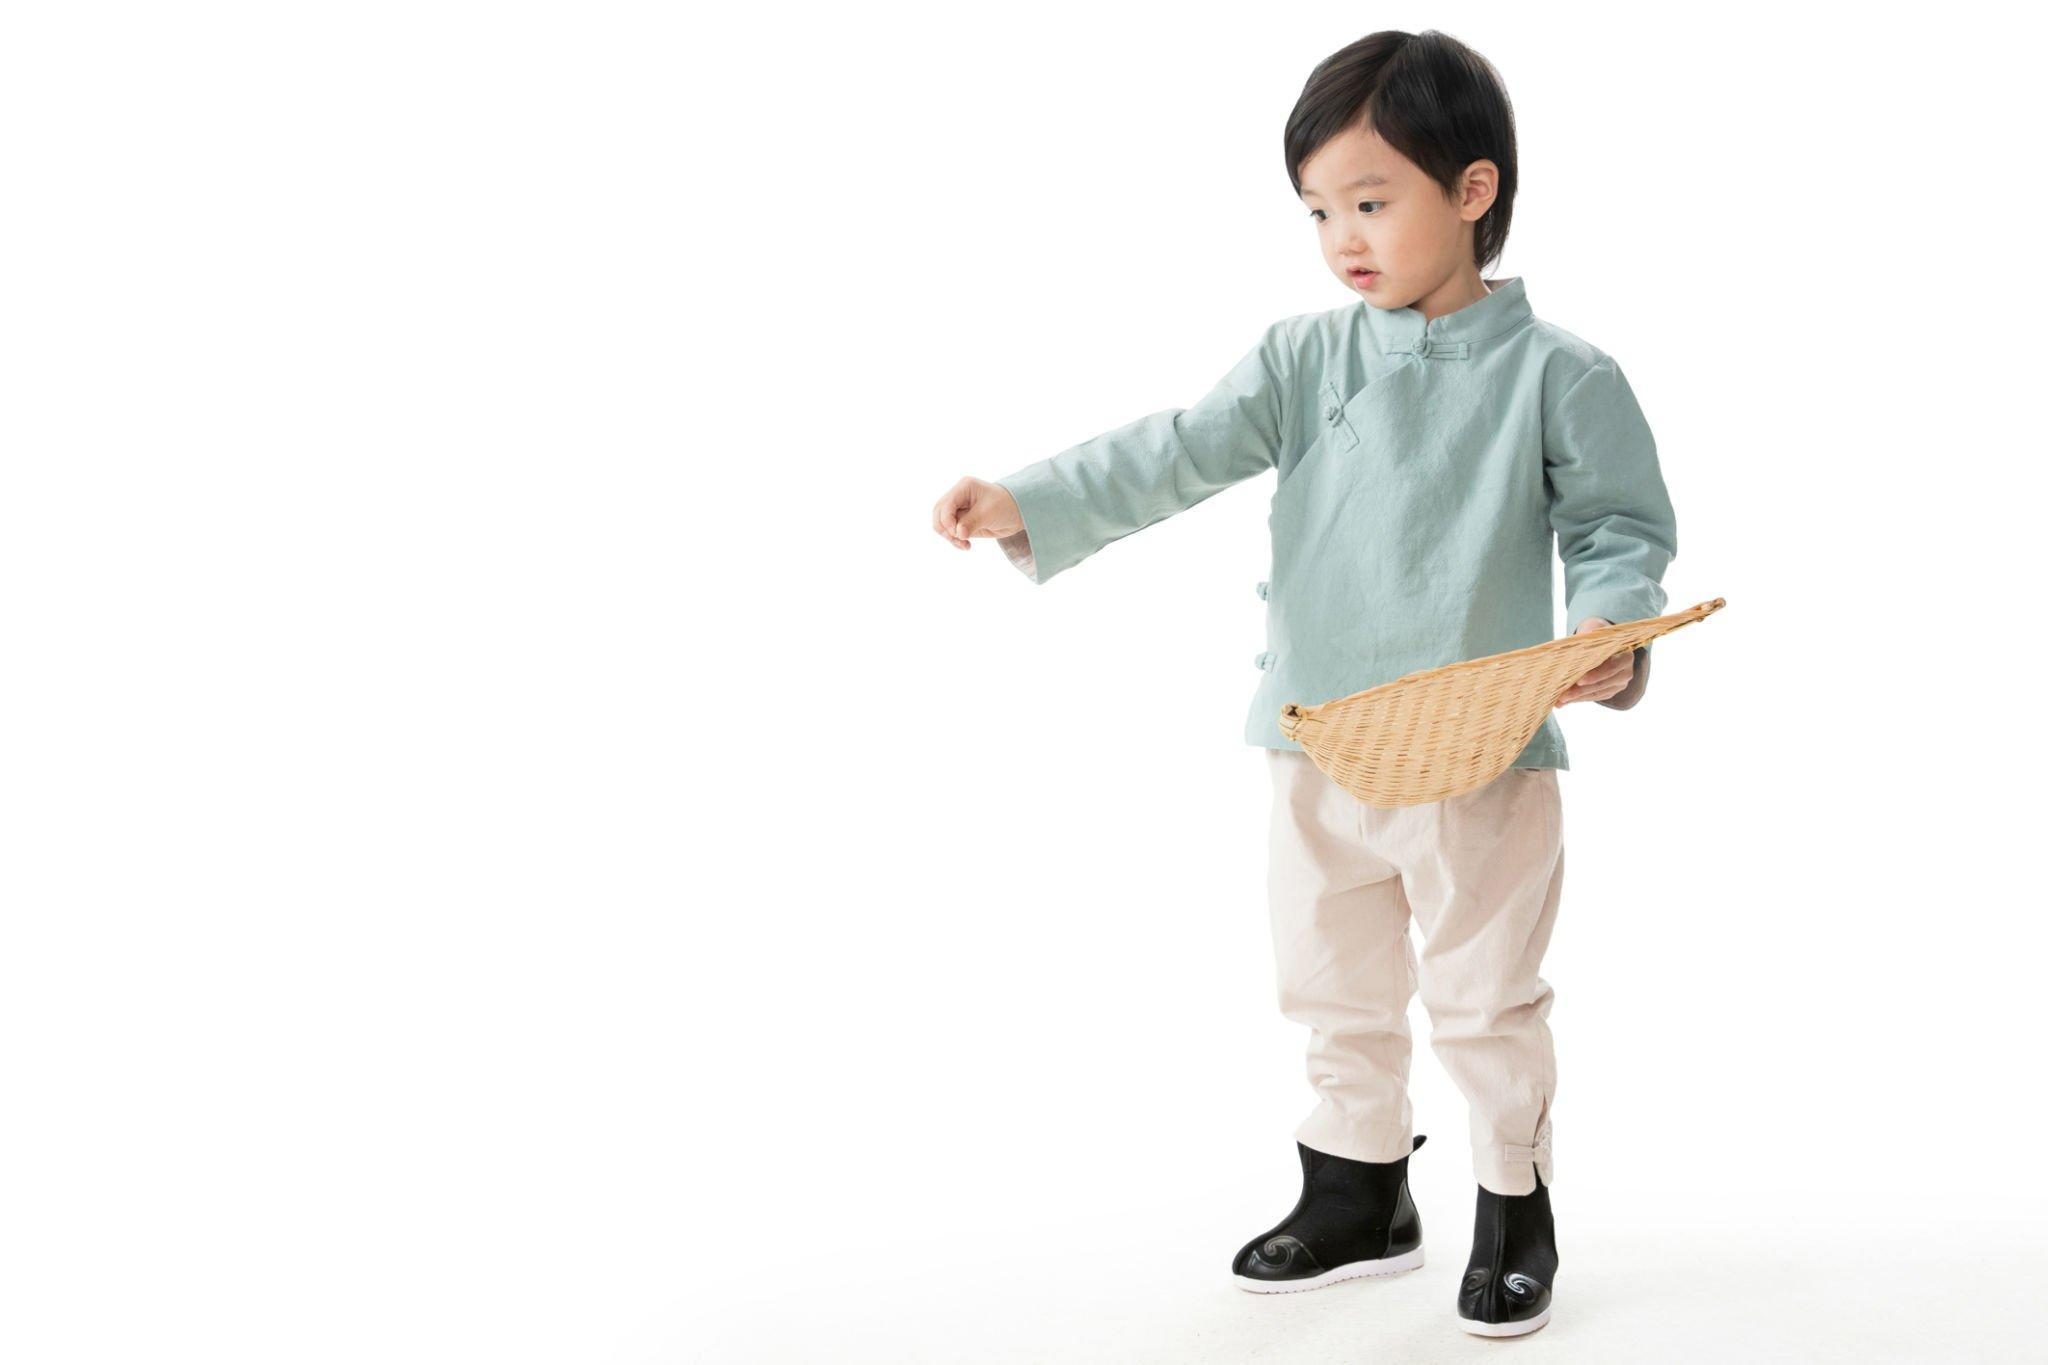Healthy: (1291, 107, 1495, 338)
